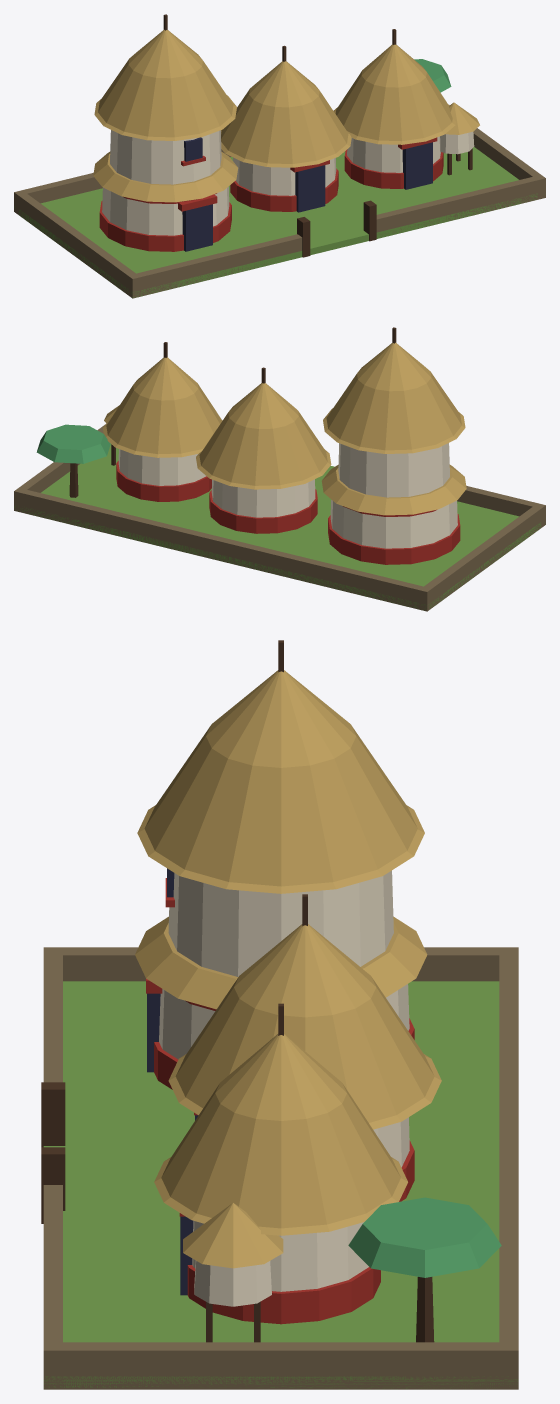
The model's file is house-2x1-2f-third-rondavel-a.glb.
3 renders of one model, top to bottom at view 1: azimuth 30°, elevation 25°; view 2: azimuth 150°, elevation 25°; view 3: azimuth 270°, elevation 25°, orthographic. The views are drawn at different scales.
Visible parts, largest first — view 1: house-2x1-2f-third-rondavel-a; view 2: house-2x1-2f-third-rondavel-a; view 3: house-2x1-2f-third-rondavel-a.
Part boxes in pixels (bbox=[...]): house-2x1-2f-third-rondavel-a: bbox=[14, 14, 545, 298]; house-2x1-2f-third-rondavel-a: bbox=[14, 327, 545, 611]; house-2x1-2f-third-rondavel-a: bbox=[41, 640, 518, 1389].
Bounding box in the file's own units: 1.99 × 1 × 0.995.
Materials: 1 (1 with a texture image).
